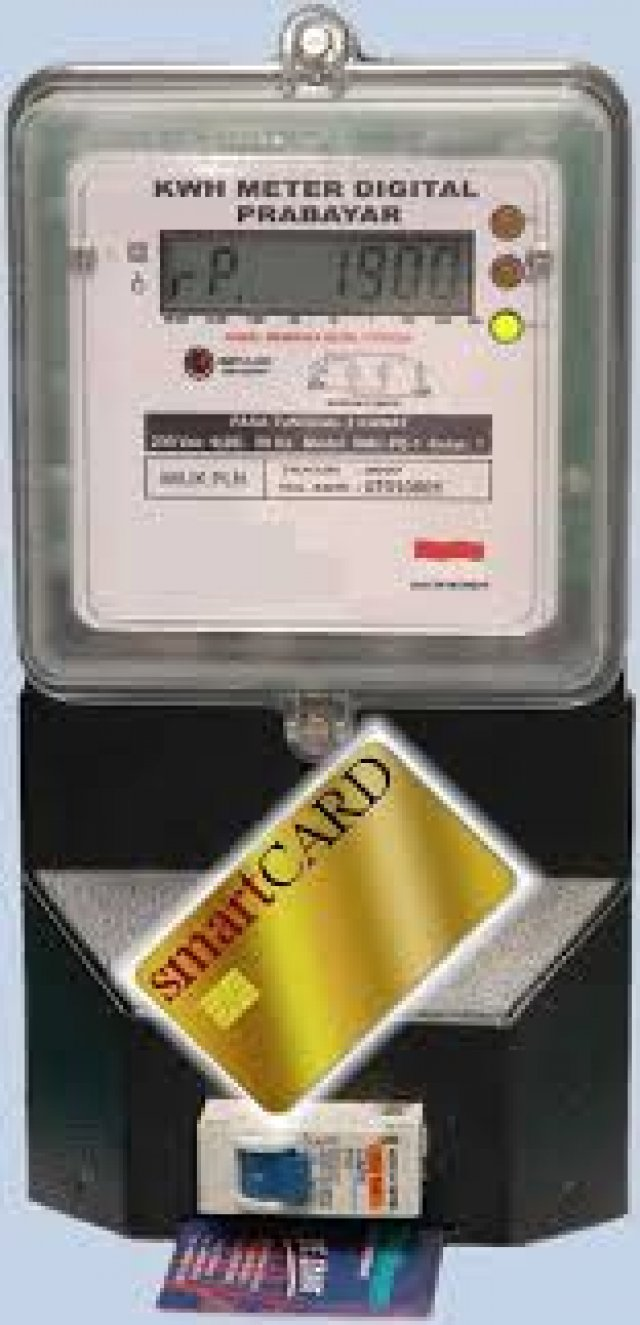box: (159, 229, 476, 318)
